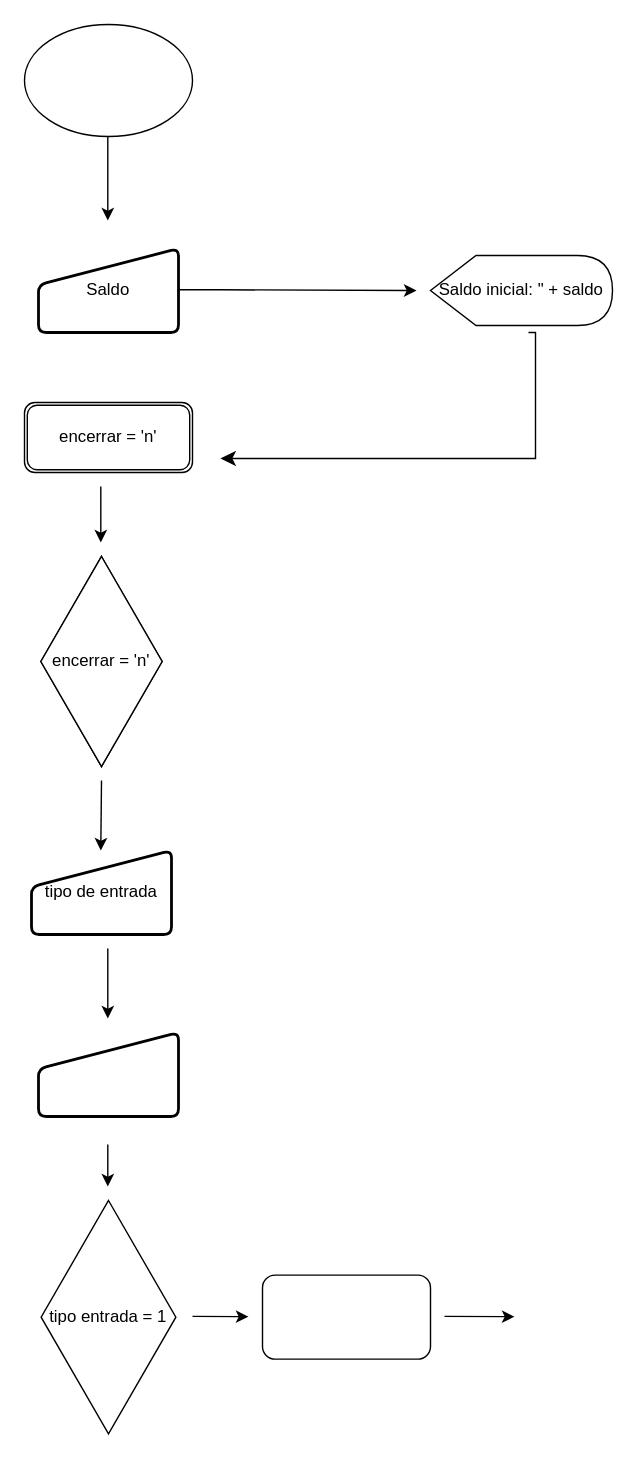
The diagram is 637 pixels wide and 1459 high, and some of its shapes have lost their labels. Here are the shapes that lost their labels. From the top down, the centre of each, then its label:
the point at 107,79: Início
the point at 107,1073: quantidade
the point at 345,1316: saldo = saldo + quantidade
